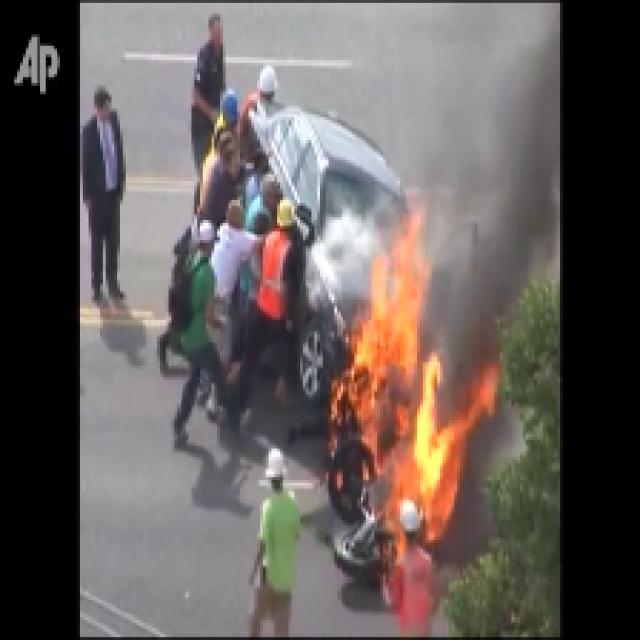fire: (356, 306, 437, 532)
smoke: (463, 101, 543, 295)
